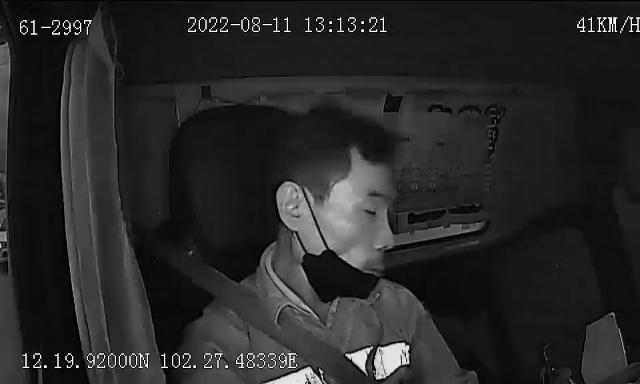SafeDriving: (419, 95, 459, 120)
Seatbelt: (182, 260, 382, 384)
